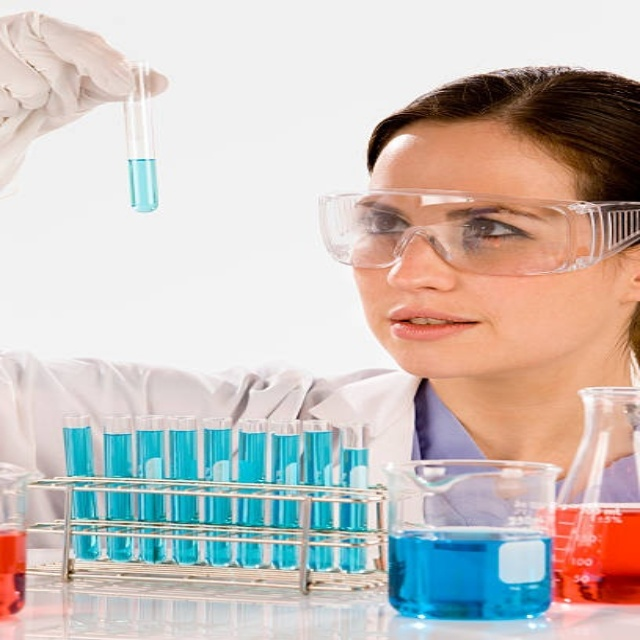Gafas: (317, 191, 639, 276)
Guantes: (2, 11, 168, 128)
Sin_mascara: (380, 297, 491, 364)
